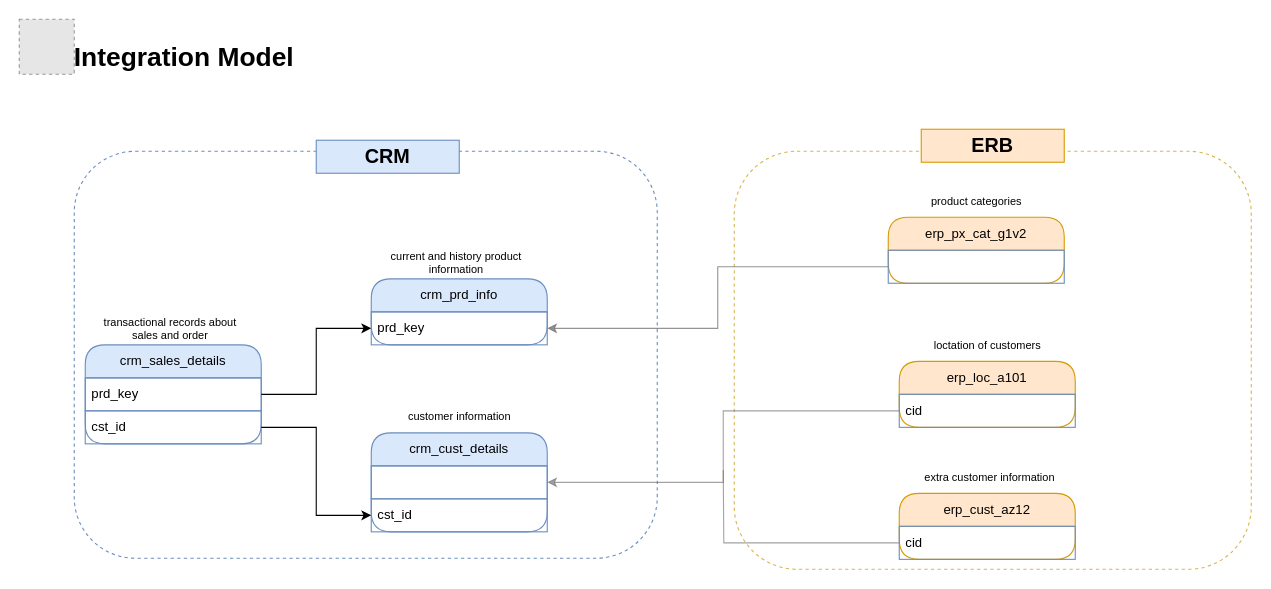
The diagram is 1271 pixels wide and 589 high, and some of its shapes have lost their labels. Grey dashed boxes stand in for pictures. The shapes that lost their labels are listed below. From the top down, each one's centre as x and y in pixels, then its label:
At point (975, 266): "id".
At point (458, 482): "cst_key".
